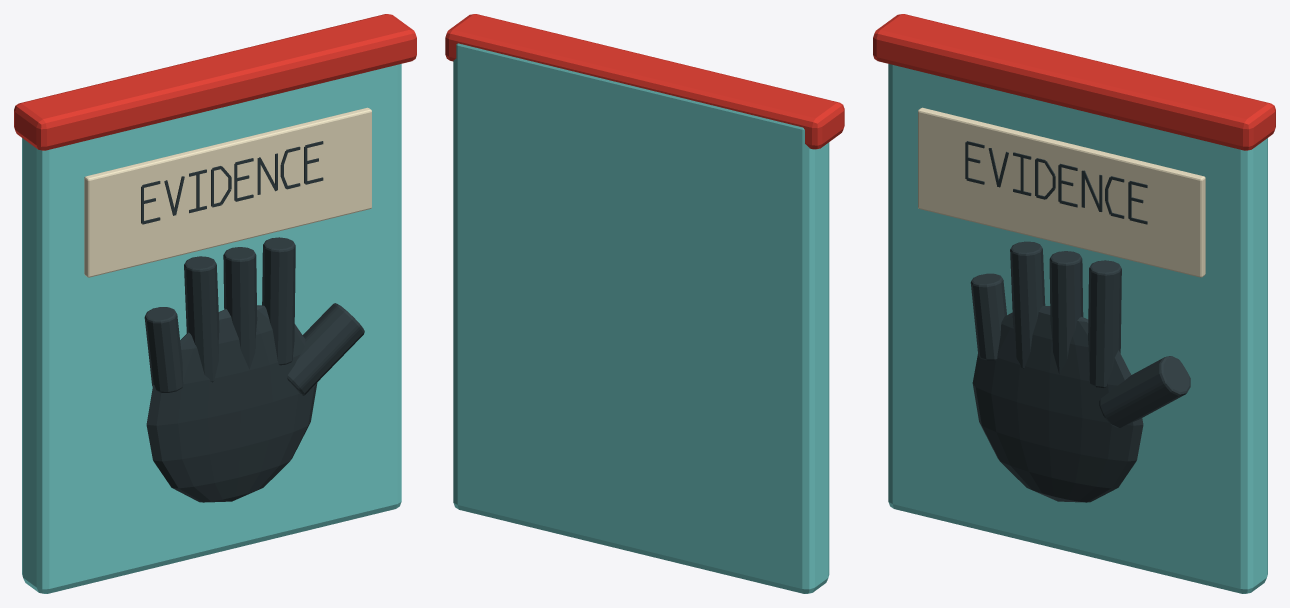
Rendered from P015_evidence_bag.glb.
3 renders of one model, left to right at view 1: azimuth 30°, elevation 25°; view 2: azimuth 150°, elevation 25°; view 3: azimuth 330°, elevation 25°, orthographic.
Parts seen in each view (by area): view 1: P015_bag_001, P015_label_003, P015_seal_002, P015_glove_palm_005, P015_glove_finger_012, P015_thumb_007, P015_glove_finger_008, P015_glove_finger_010, P015_glove_finger_006, P015_label_004; view 2: P015_bag_001, P015_seal_002; view 3: P015_bag_001, P015_label_003, P015_seal_002, P015_glove_palm_005, P015_glove_finger_012, P015_thumb_007, P015_glove_finger_008, P015_glove_finger_010, P015_label_004, P015_glove_finger_006.
Part boxes in pixels (box(x1,y1,x2,y2)): P015_bag_001: box(22, 64, 401, 593); P015_label_003: box(84, 107, 371, 277); P015_seal_002: box(14, 14, 416, 150); P015_glove_palm_005: box(146, 305, 317, 502); P015_glove_finger_012: box(262, 237, 295, 365); P015_thumb_007: box(287, 303, 364, 395); P015_glove_finger_008: box(184, 256, 219, 382); P015_glove_finger_010: box(223, 247, 257, 369); P015_glove_finger_006: box(144, 307, 183, 392); P015_label_004: box(141, 141, 323, 224); P015_bag_001: box(453, 43, 829, 593); P015_seal_002: box(445, 14, 844, 149); P015_bag_001: box(888, 64, 1267, 593); P015_label_003: box(918, 107, 1205, 277); P015_seal_002: box(873, 14, 1275, 150); P015_glove_palm_005: box(972, 305, 1143, 502); P015_glove_finger_012: box(1088, 260, 1121, 387); P015_thumb_007: box(1099, 356, 1190, 428); P015_glove_finger_008: box(1010, 241, 1045, 368); P015_glove_finger_010: box(1049, 251, 1083, 374); P015_label_004: box(965, 141, 1147, 224); P015_glove_finger_006: box(970, 273, 1006, 360).
Bounding box in the file's own units: 0.24 × 0.2915 × 0.0462.
